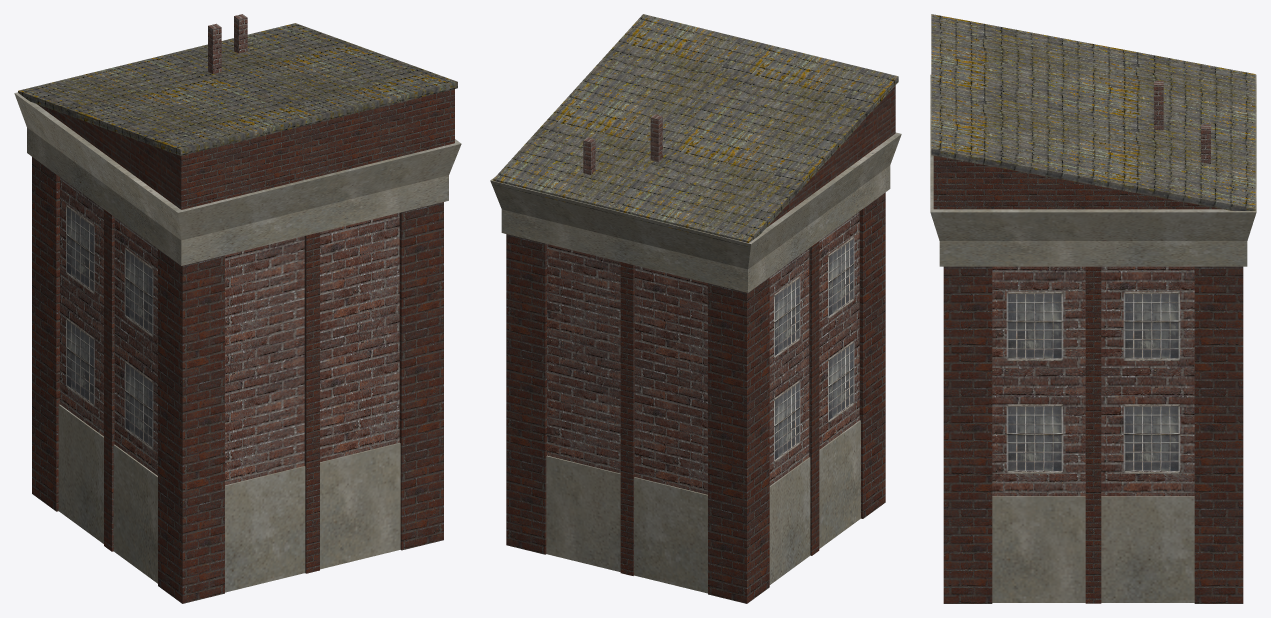
The model's file is medium building.fbx.
3 views of the same model, side by side, from view 1: azimuth 30°, elevation 25°; view 2: azimuth 150°, elevation 25°; view 3: azimuth 270°, elevation 25° (orthographic). The views are drawn at different scales.
Visible parts, largest first — view 1: Cube.029, Cube.030, Cube.132, Cube.035, Cube.036, Cube.131, Cube.031, Cube.034, Plane.006, Plane.010, Plane.009, Plane.005 (+1 smaller); view 2: Cube.132, Cube.029, Cube.030, Cube.035, Cube.036, Cube.033, Cube.034, Cube.131, Plane.005, Plane.006, Plane.009, Plane.010 (+1 smaller); view 3: Cube.132, Cube.030, Cube.029, Cube.035, Cube.036, Cube.131, Cube.032, Plane.007, Plane.008, Plane.011, Plane.012, Cube.147.
Part boxes in pixels (x1,y1,x2,y2): Cube.029: [60, 177, 399, 485]; Cube.030: [32, 157, 443, 603]; Cube.132: [18, 23, 457, 155]; Cube.035: [58, 404, 400, 592]; Cube.036: [14, 92, 461, 265]; Cube.131: [37, 89, 454, 209]; Cube.031: [304, 232, 319, 573]; Cube.034: [104, 209, 114, 551]; Plane.006: [124, 360, 153, 450]; Plane.010: [124, 247, 153, 337]; Plane.009: [66, 204, 94, 294]; Plane.005: [66, 317, 94, 407]; Cube.132: [493, 14, 898, 246]; Cube.029: [547, 211, 859, 494]; Cube.030: [506, 192, 885, 603]; Cube.035: [546, 420, 860, 593]; Cube.036: [490, 132, 901, 292]; Cube.033: [620, 262, 634, 575]; Cube.034: [809, 241, 819, 555]; Cube.131: [766, 86, 895, 227]; Plane.005: [774, 380, 800, 462]; Plane.006: [828, 340, 854, 422]; Plane.009: [774, 276, 800, 358]; Plane.010: [828, 236, 854, 318]; Cube.132: [931, 14, 1255, 210]; Cube.030: [943, 266, 1243, 603]; Cube.029: [992, 266, 1194, 496]; Cube.035: [992, 496, 1194, 602]; Cube.036: [930, 74, 1256, 266]; Cube.131: [933, 156, 1221, 209]; Cube.032: [1085, 266, 1101, 603]; Plane.007: [1123, 404, 1180, 473]; Plane.008: [1006, 404, 1063, 473]; Plane.011: [1123, 291, 1180, 360]; Plane.012: [1006, 291, 1063, 360]; Cube.147: [1154, 81, 1163, 131].
Bounding box in the file's own units: 1785 × 2791 × 1785.
